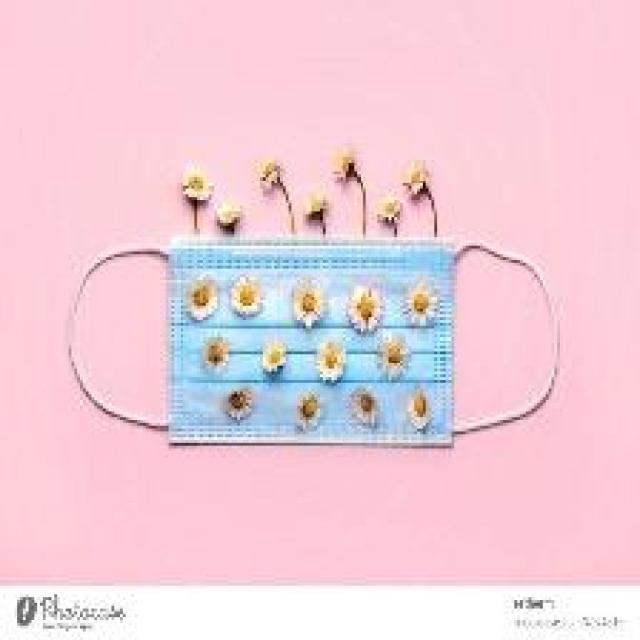Mask: (94, 140, 582, 507)
